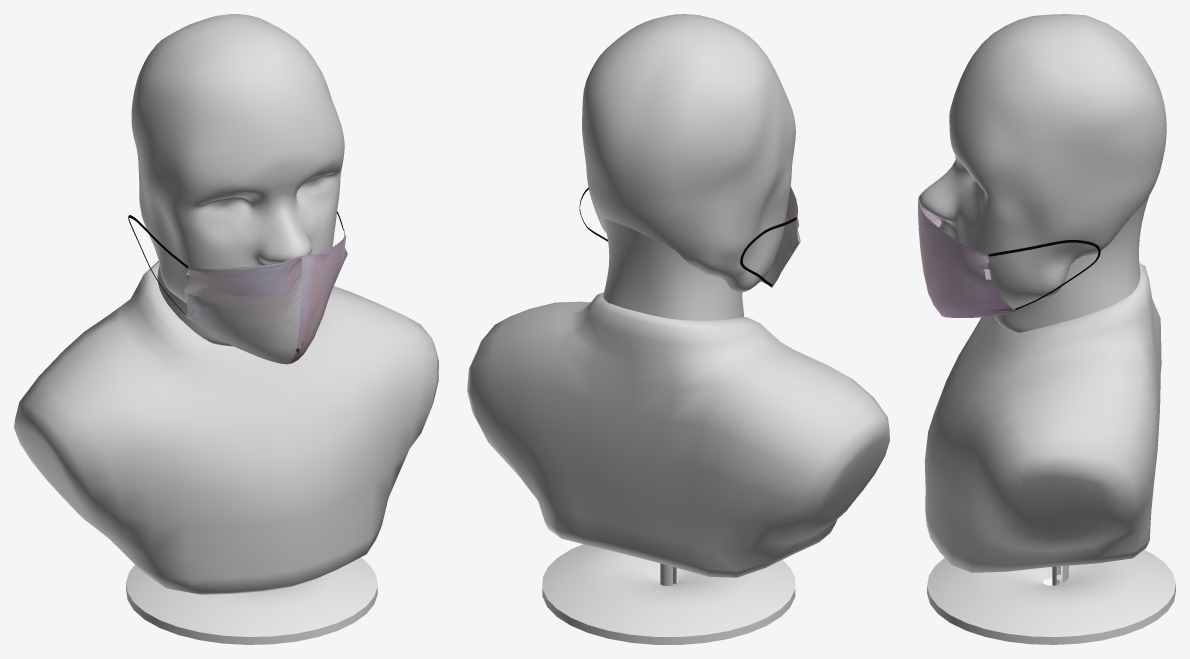
File: face_mask.glb
3 renders of one model, left to right at view 1: azimuth 30°, elevation 25°; view 2: azimuth 150°, elevation 25°; view 3: azimuth 270°, elevation 25°, orthographic. The views are drawn at different scales.
Parts seen in each view (by area): view 1: Circle_032, Mask1; view 2: Circle_032, Mask1; view 3: Circle_032, Mask1, Tali1.
Boxes of the visible parts, left/top/right/bottom form: Circle_032: left=14, top=14, right=438, bottom=644; Mask1: left=184, top=229, right=347, bottom=364; Circle_032: left=467, top=14, right=889, bottom=644; Mask1: left=761, top=186, right=800, bottom=287; Circle_032: left=919, top=14, right=1175, bottom=644; Mask1: left=918, top=195, right=1015, bottom=317; Tali1: left=988, top=240, right=1100, bottom=309.
Size of the model in its own units: 230 by 333 by 135.
5 materials, 2 textured.
